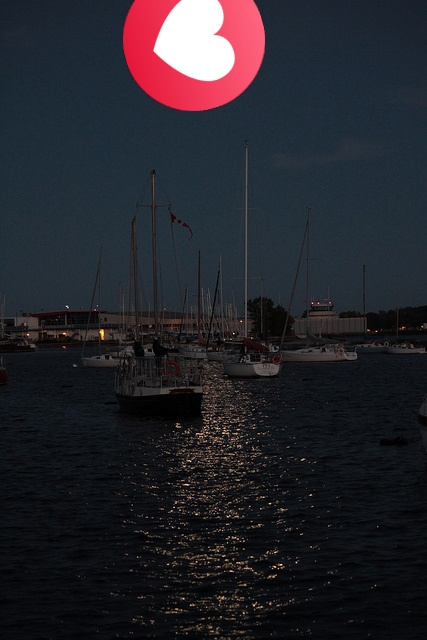love: (123, 0, 265, 111)
